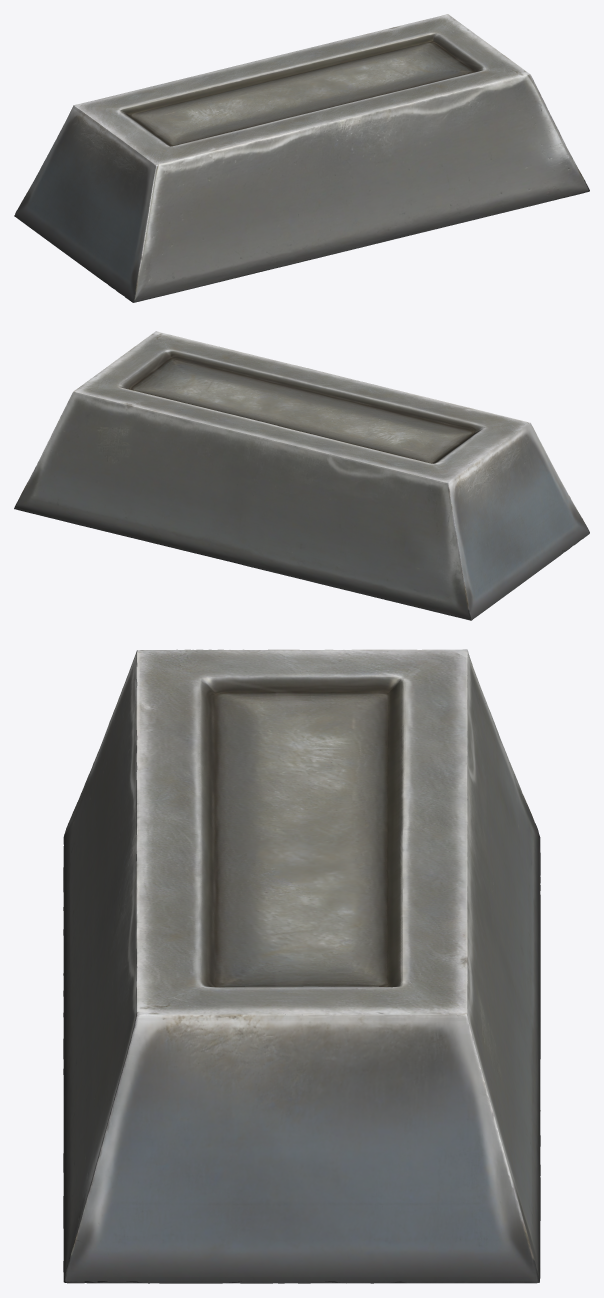
Rendered from IronIngot.fbx.
3 renders of one model, top to bottom at view 1: azimuth 30°, elevation 25°; view 2: azimuth 150°, elevation 25°; view 3: azimuth 270°, elevation 25°, orthographic. The views are drawn at different scales.
Parts seen in each view (by area): view 1: temp; view 2: temp; view 3: temp.
Boxes of the visible parts, <box> form: temp: <box>14,14,589,302</box>; temp: <box>14,331,589,620</box>; temp: <box>63,649,540,1283</box>.
Size of the model in its own units: 200 by 48.09 by 90.58.
Materials: 1 (1 with a texture image).
